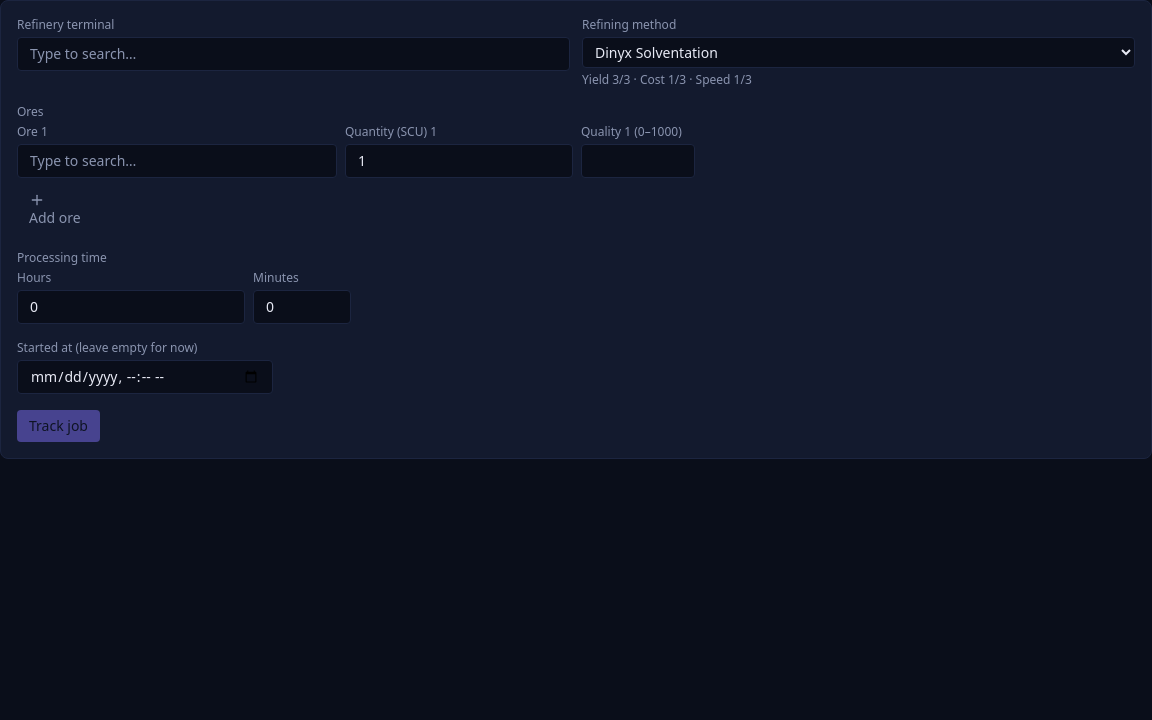
Test case: RefineryJobForm › removes an ore row
Click the button "Add ore".
click(55, 210)  # box [17, 186, 93, 234]
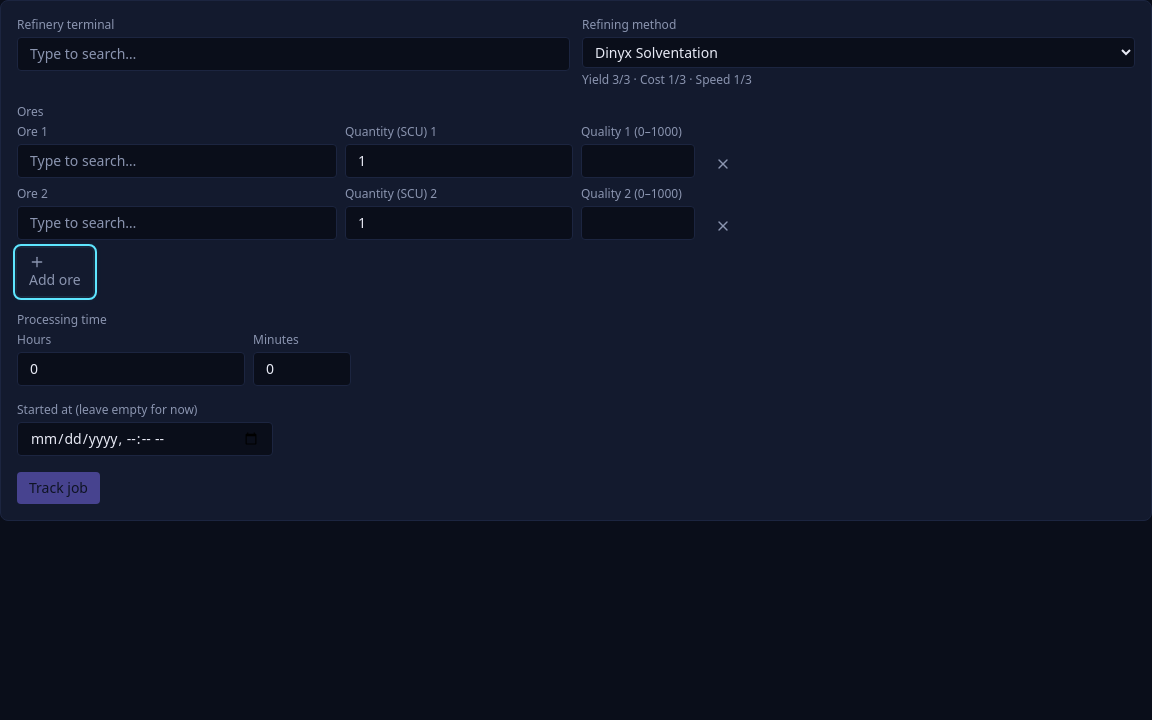
Expected: the dropdown labelled "Ore 2" is shown, [17, 206, 337, 240]
Click the button named "Remove ore 2".
click(723, 226)  # box [703, 212, 743, 240]
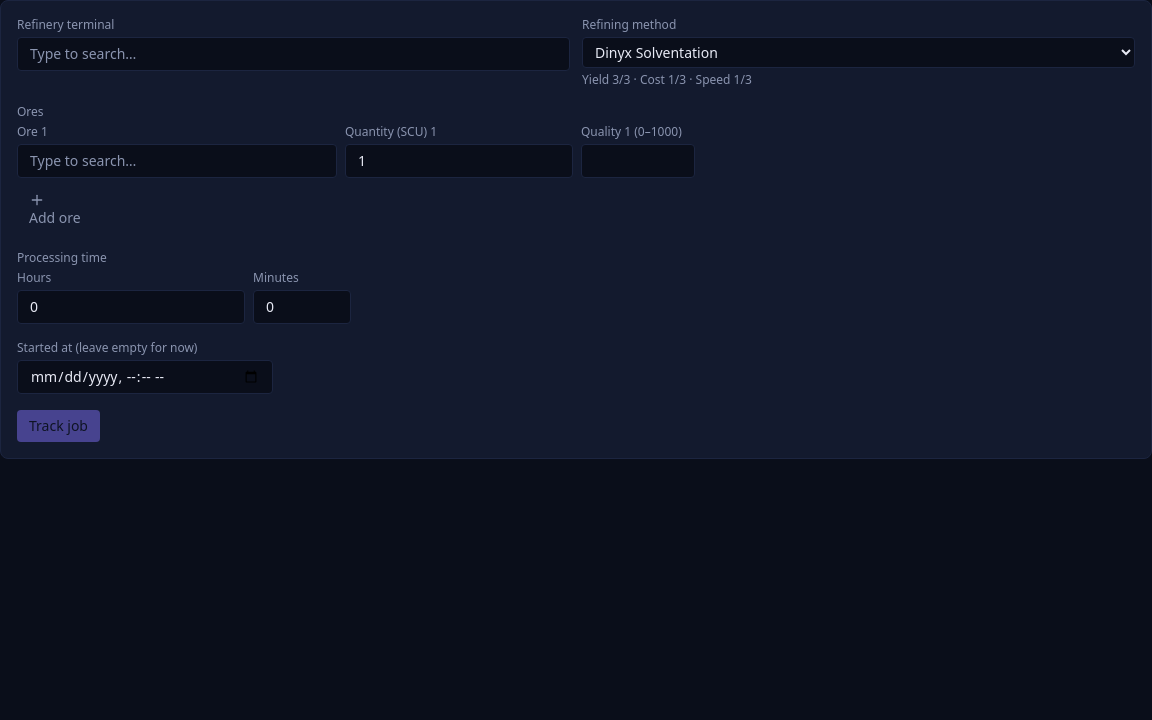
Expected: the label "Ore 2" is gone
